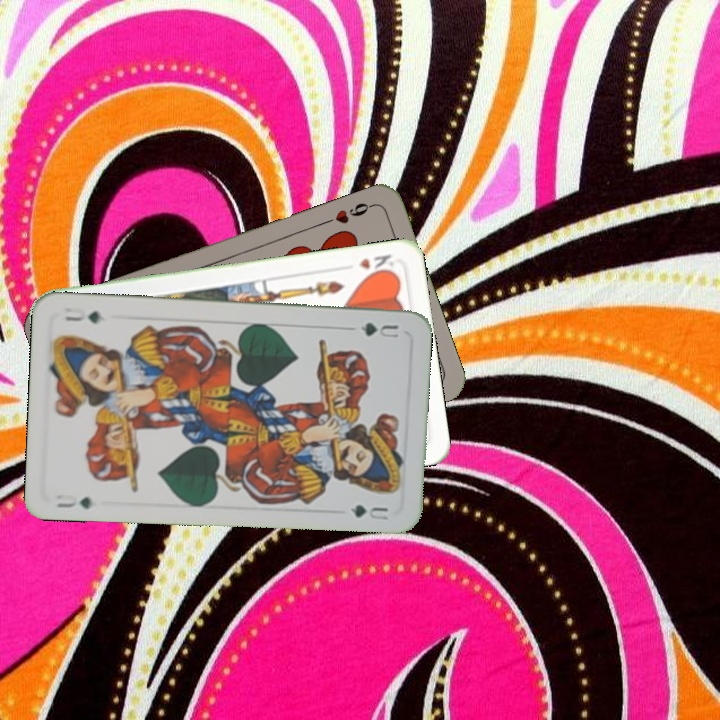GU: (356, 318, 401, 340), (52, 493, 94, 512)
H9: (320, 198, 377, 227)
HK: (355, 249, 397, 278)
